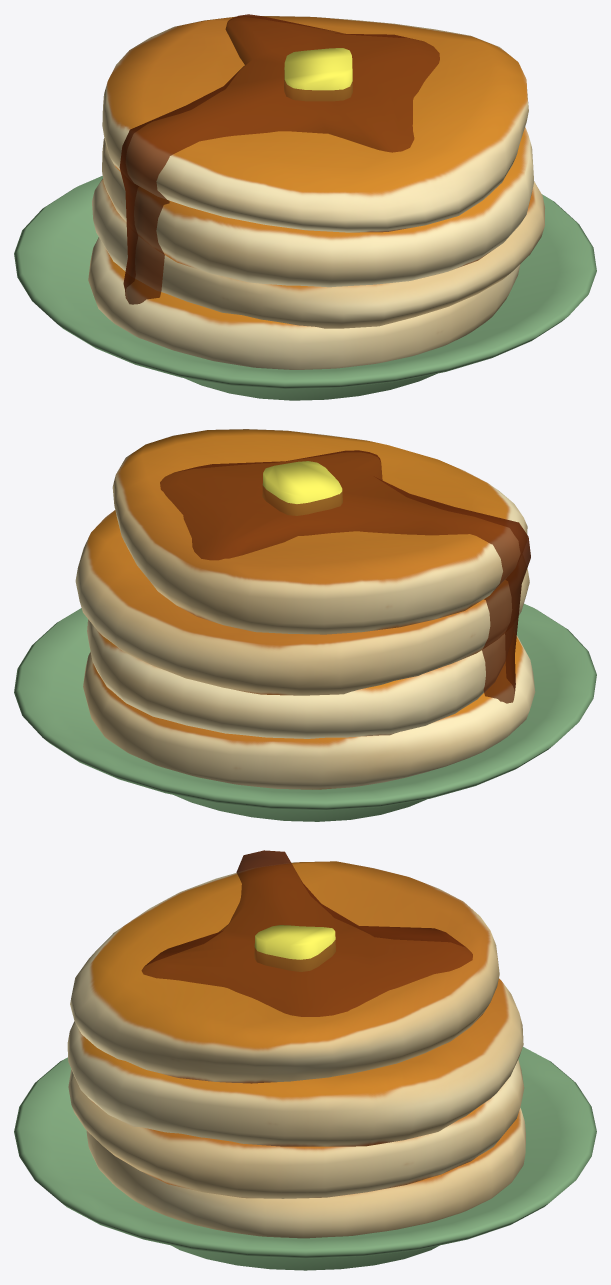
File: pancakes set.fbx
The picture shows the model from 3 angles, top to bottom: view 1: azimuth 30°, elevation 25°; view 2: azimuth 150°, elevation 25°; view 3: azimuth 270°, elevation 25°; orthographic projection.
Parts seen in each view (by area): view 1: Pancake003, Plate, Plane002, Pancake002, Pancake, Pancake001, Butter; view 2: Pancake003, Plate, Pancake002, Plane002, Pancake, Pancake001, Butter; view 3: Pancake003, Pancake002, Plate, Plane002, Pancake001, Pancake, Butter.
Boxes of the visible parts, left/top/right/bottom form: Pancake003: left=102, top=16, right=528, bottom=232; Plate: left=14, top=176, right=596, bottom=400; Plane002: left=119, top=14, right=439, bottom=304; Pancake002: left=102, top=127, right=534, bottom=287; Pancake: left=88, top=237, right=520, bottom=369; Pancake001: left=92, top=178, right=544, bottom=328; Butter: left=284, top=48, right=352, bottom=100; Pancake003: left=112, top=429, right=527, bottom=634; Plate: left=14, top=603, right=596, bottom=821; Pancake002: left=75, top=510, right=529, bottom=695; Plane002: left=160, top=450, right=530, bottom=703; Pancake: left=83, top=635, right=535, bottom=789; Pancake001: left=87, top=619, right=505, bottom=738; Butter: left=262, top=461, right=342, bottom=515; Pancake003: left=70, top=861, right=499, bottom=1083; Pancake002: left=67, top=978, right=523, bottom=1146; Plate: left=14, top=1047, right=596, bottom=1270; Plane002: left=141, top=850, right=472, bottom=1016; Pancake001: left=68, top=1059, right=524, bottom=1198; Pancake: left=86, top=1108, right=525, bottom=1238; Butter: left=254, top=925, right=335, bottom=971.
Size of the model in its own units: 28.41 by 14.62 by 28.41.
